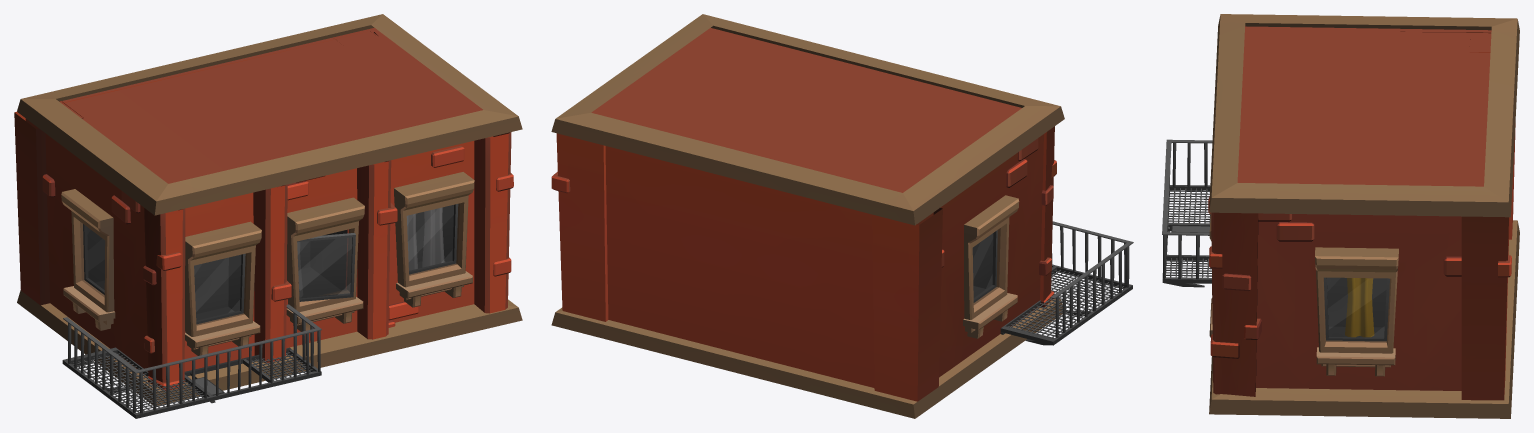
Rendered from firstUpper.glb.
3 renders of one model, left to right at view 1: azimuth 30°, elevation 25°; view 2: azimuth 150°, elevation 25°; view 3: azimuth 270°, elevation 25°, orthographic. The views are drawn at different scales.
Visible parts, largest first — view 1: MOVABLE_Upper_First_Floor; view 2: MOVABLE_Upper_First_Floor; view 3: MOVABLE_Upper_First_Floor.
Boxes of the visible parts, bbox=[...] form: MOVABLE_Upper_First_Floor: bbox=[14, 14, 522, 418]; MOVABLE_Upper_First_Floor: bbox=[551, 14, 1133, 418]; MOVABLE_Upper_First_Floor: bbox=[1162, 14, 1519, 418].
Size of the model in its own units: 4.94 by 2.4 by 3.52.
Materials: 3 (3 with a texture image).
